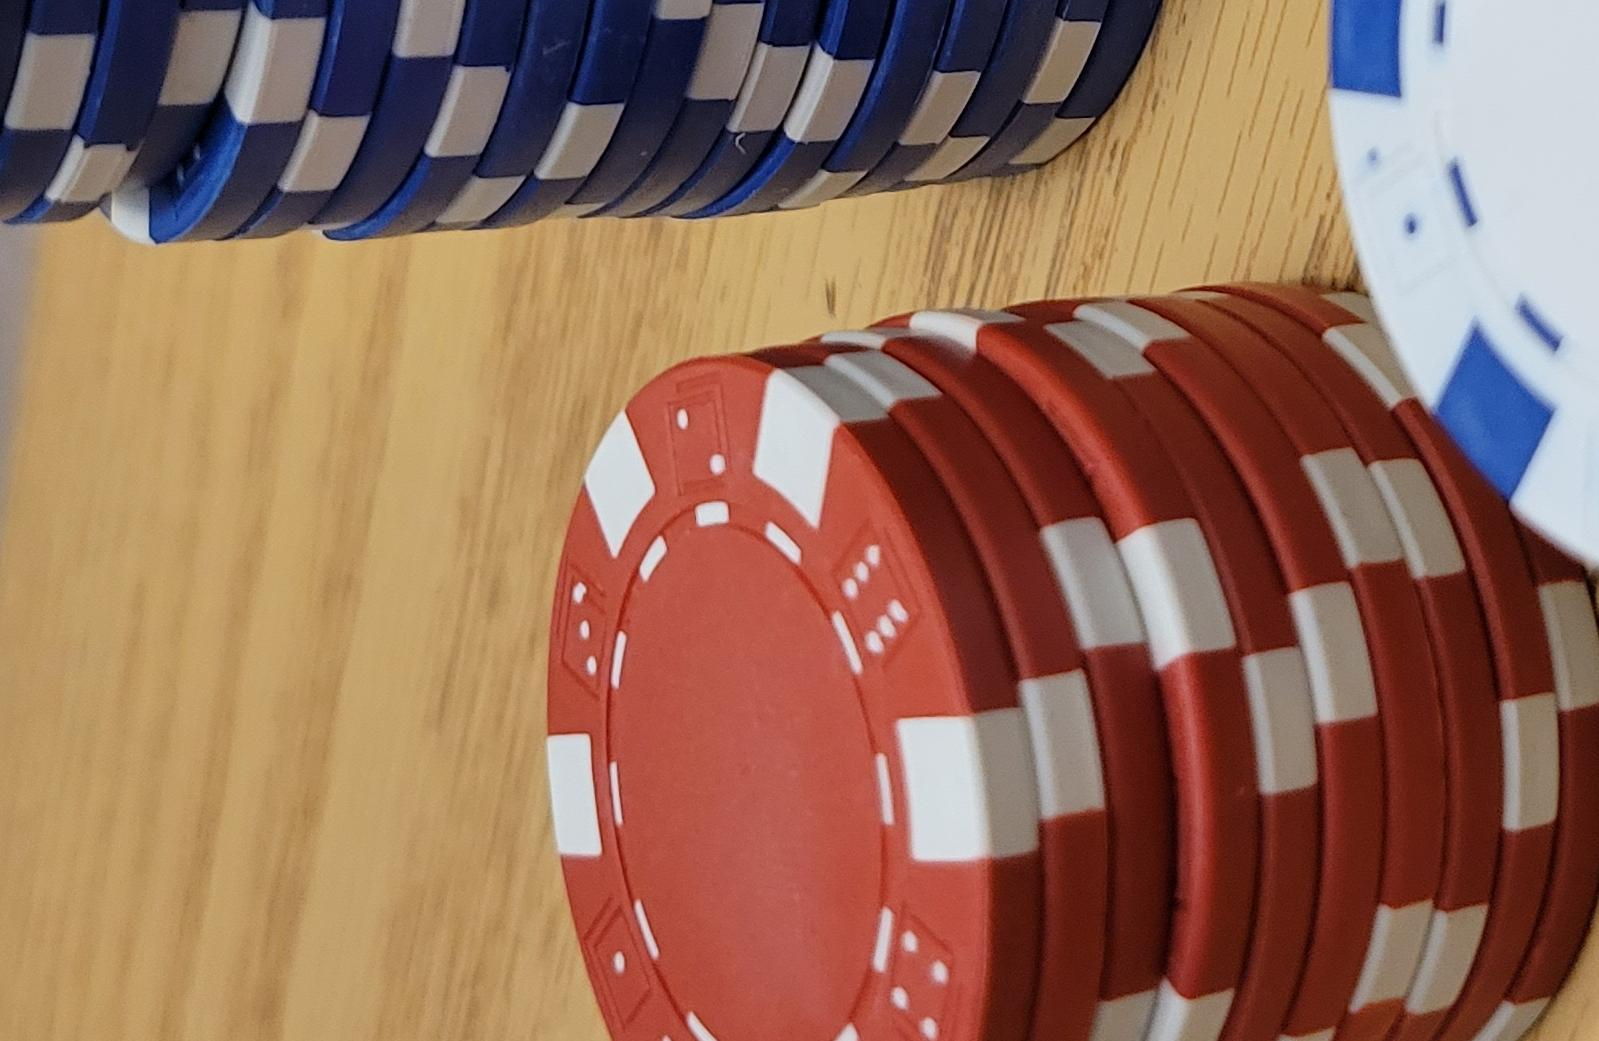Chip: (1, 533, 955, 1041)
